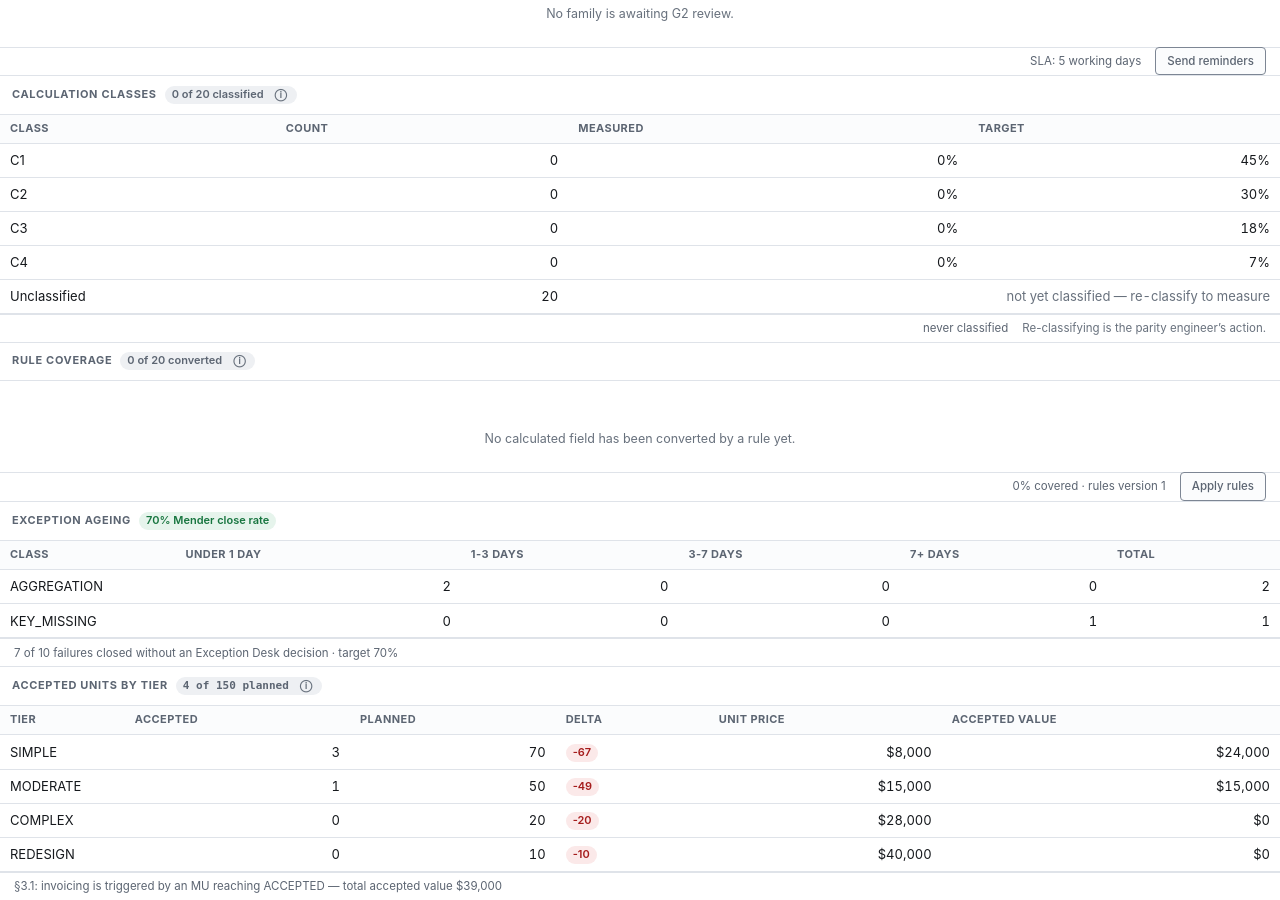
Test: rule coverage (S5.2.1) › applies rules and reports how many fields were newly converted
(page scrolled)
Expected: the element "Rule coverage" is shown, [0,343,1279,501]
Step 1. Click the button "Apply rules" → (1223, 487), box [1180,472,1266,501]
(page scrolled)
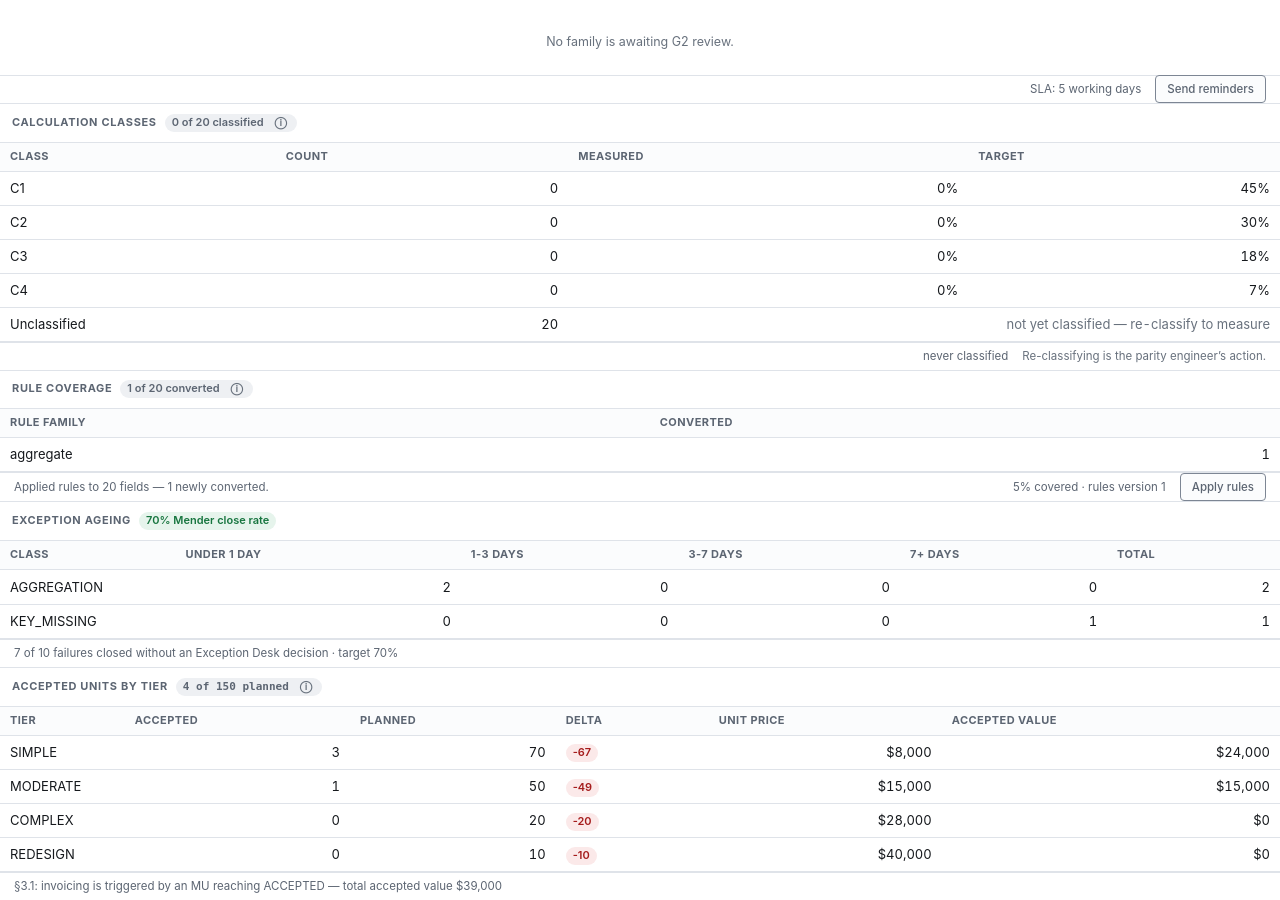
Expected: the text "Applied rules to 20 fields — 1 newly converted." is shown, [14,478,269,495]
